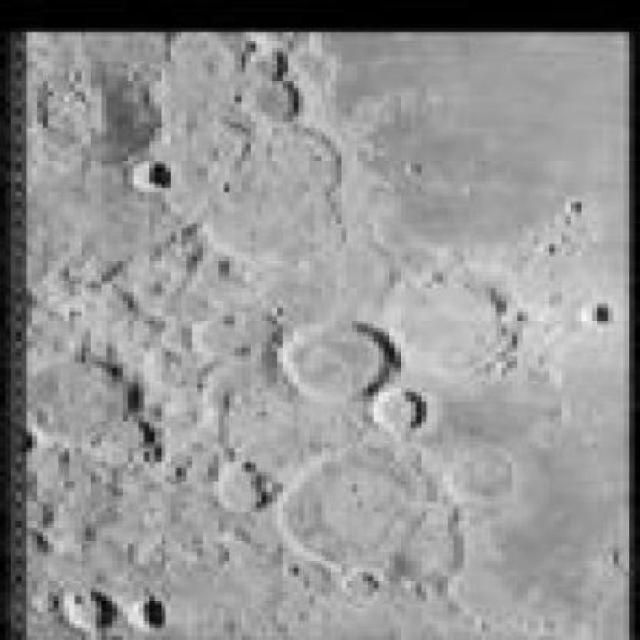crater: (281, 321, 393, 402), (371, 389, 426, 434)
